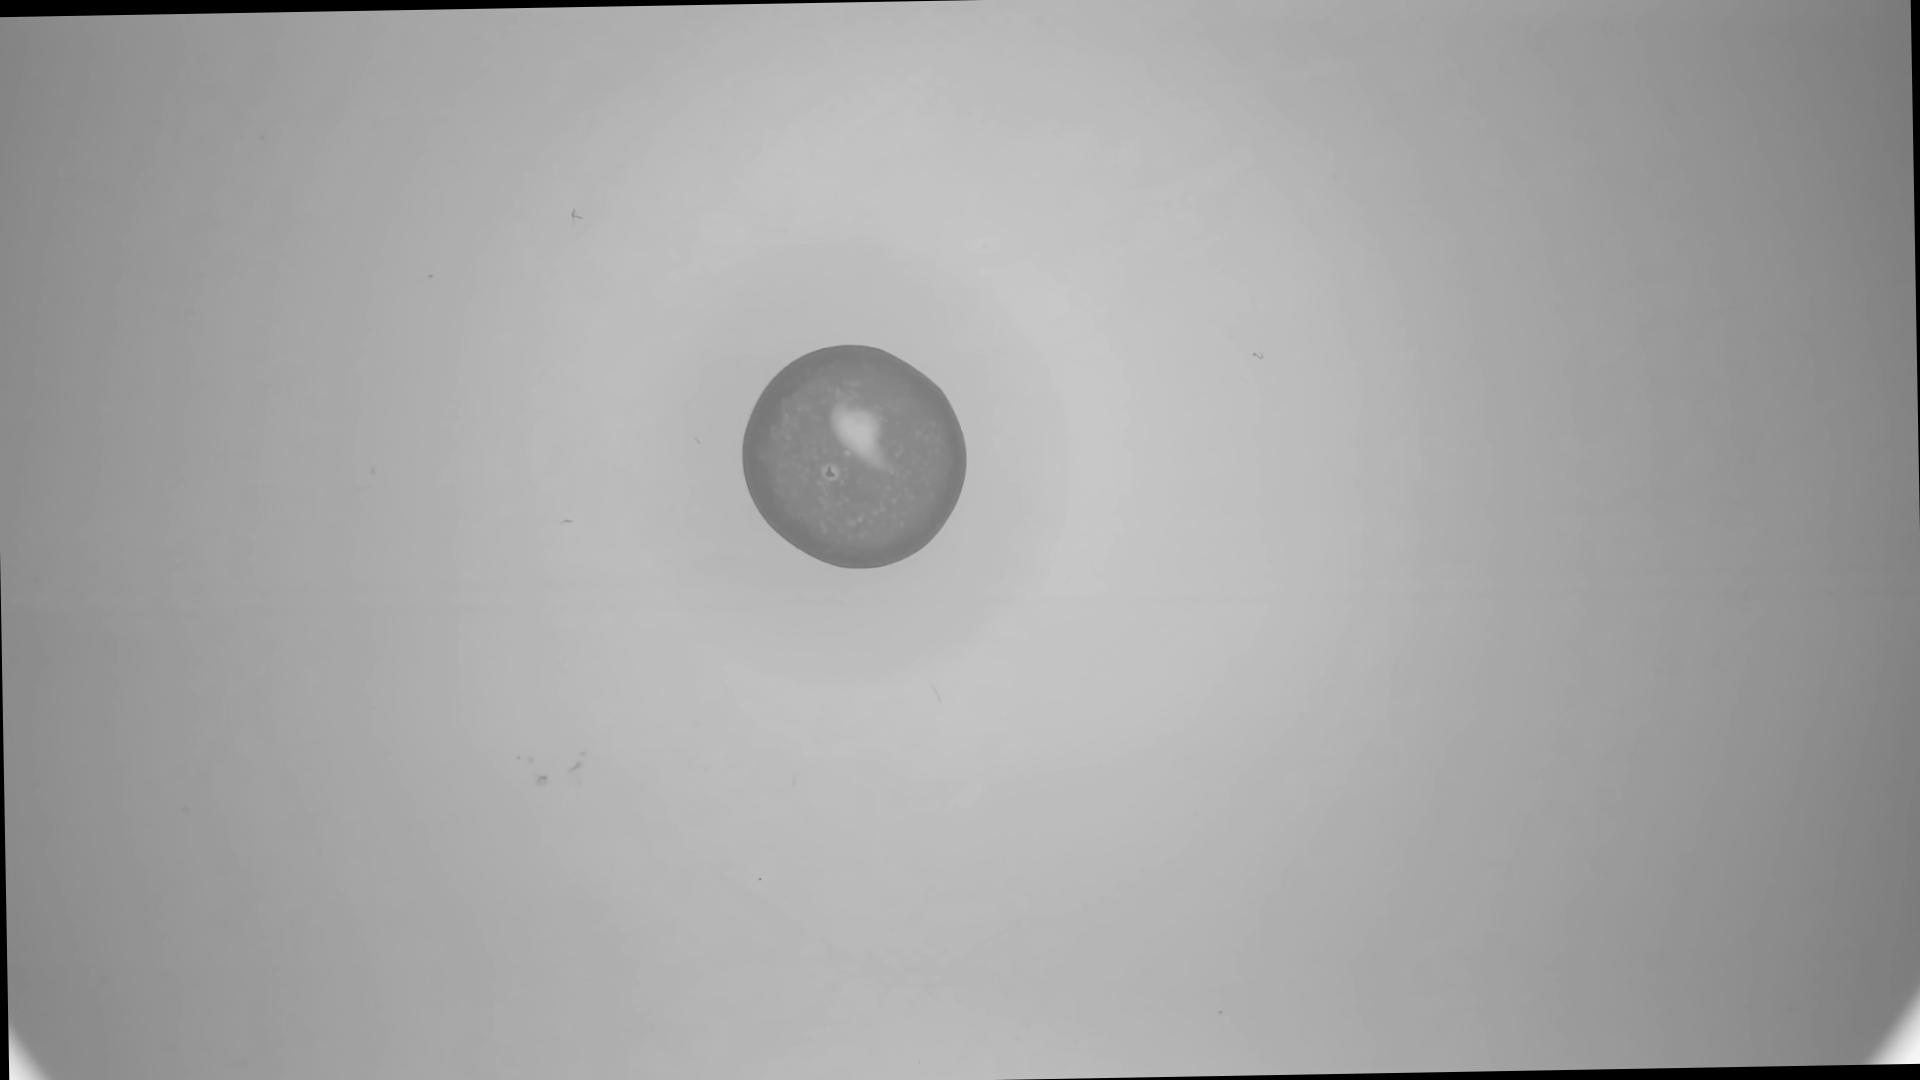abnormal: (738, 342, 975, 578)
